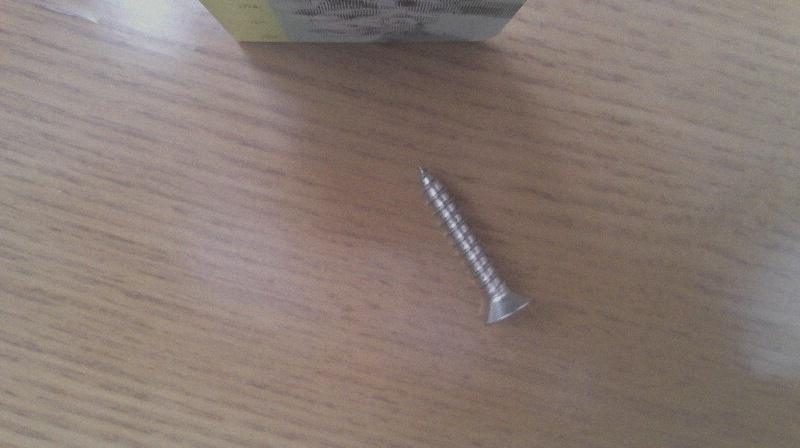S001: (411, 158, 535, 329)
